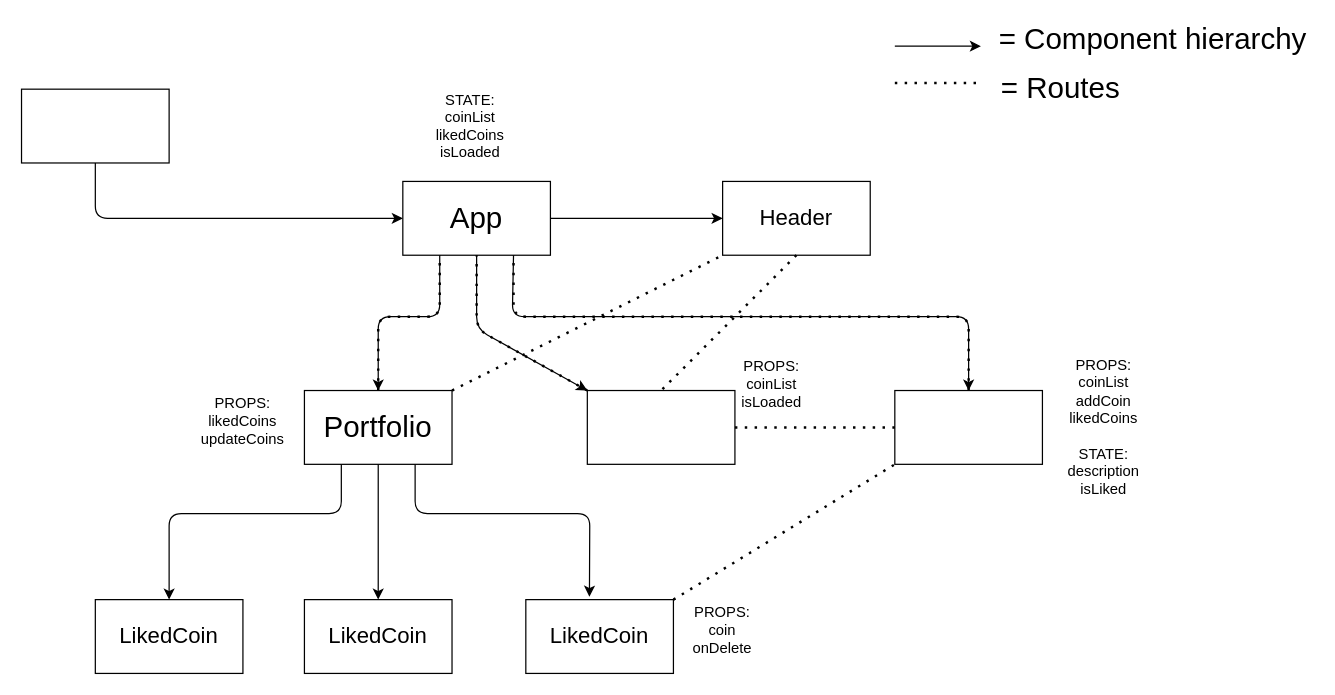
Some shapes in this 1335 by 695 pixel diagram are drawn without their labels. The shapes that lost their labels are listed below. From the top down, each one's centre as x and y in pixels, then its label:
At point 94,125: "index.js".
At point 660,426: "CoinList".
At point 968,426: "Coin".
